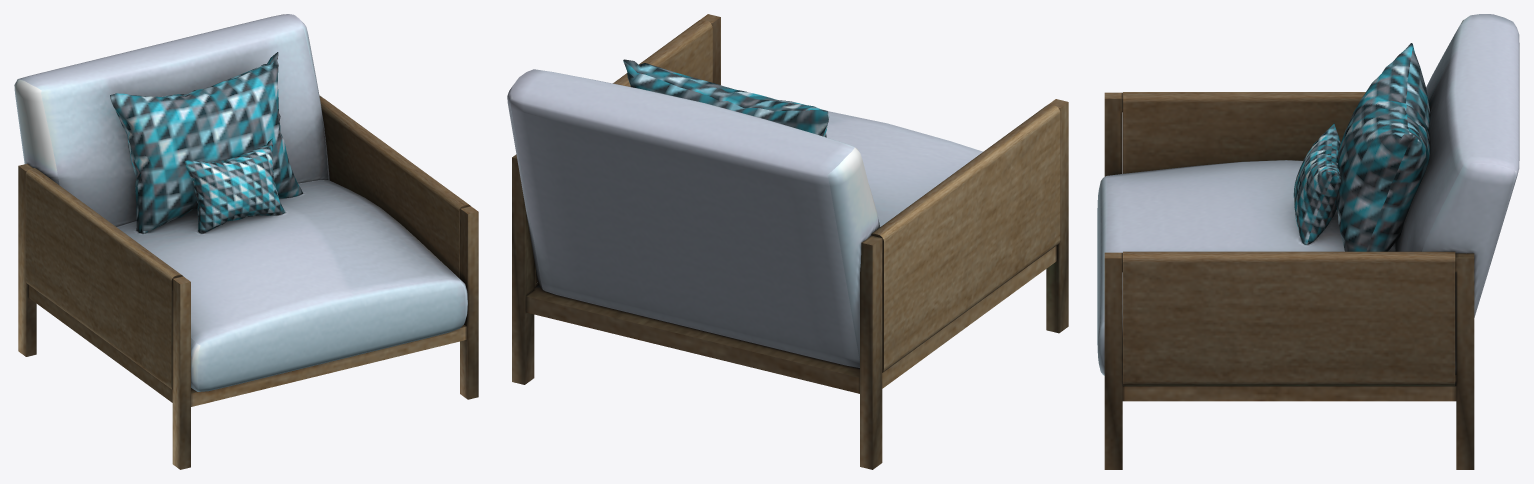
Rendered from Nicorvo_Accent_sofa.fbx.
3 renders of one model, left to right at view 1: azimuth 30°, elevation 25°; view 2: azimuth 150°, elevation 25°; view 3: azimuth 270°, elevation 25°, orthographic. The views are drawn at different scales.
Parts seen in each view (by area): view 1: Nicorvo Accent Chair; view 2: Nicorvo Accent Chair; view 3: Nicorvo Accent Chair.
Boxes of the visible parts, bbox=[...] form: Nicorvo Accent Chair: bbox=[14, 14, 478, 469]; Nicorvo Accent Chair: bbox=[507, 14, 1068, 469]; Nicorvo Accent Chair: bbox=[1097, 14, 1519, 469].
Bounding box in the file's own units: 1.3 × 1.09 × 1.39.
